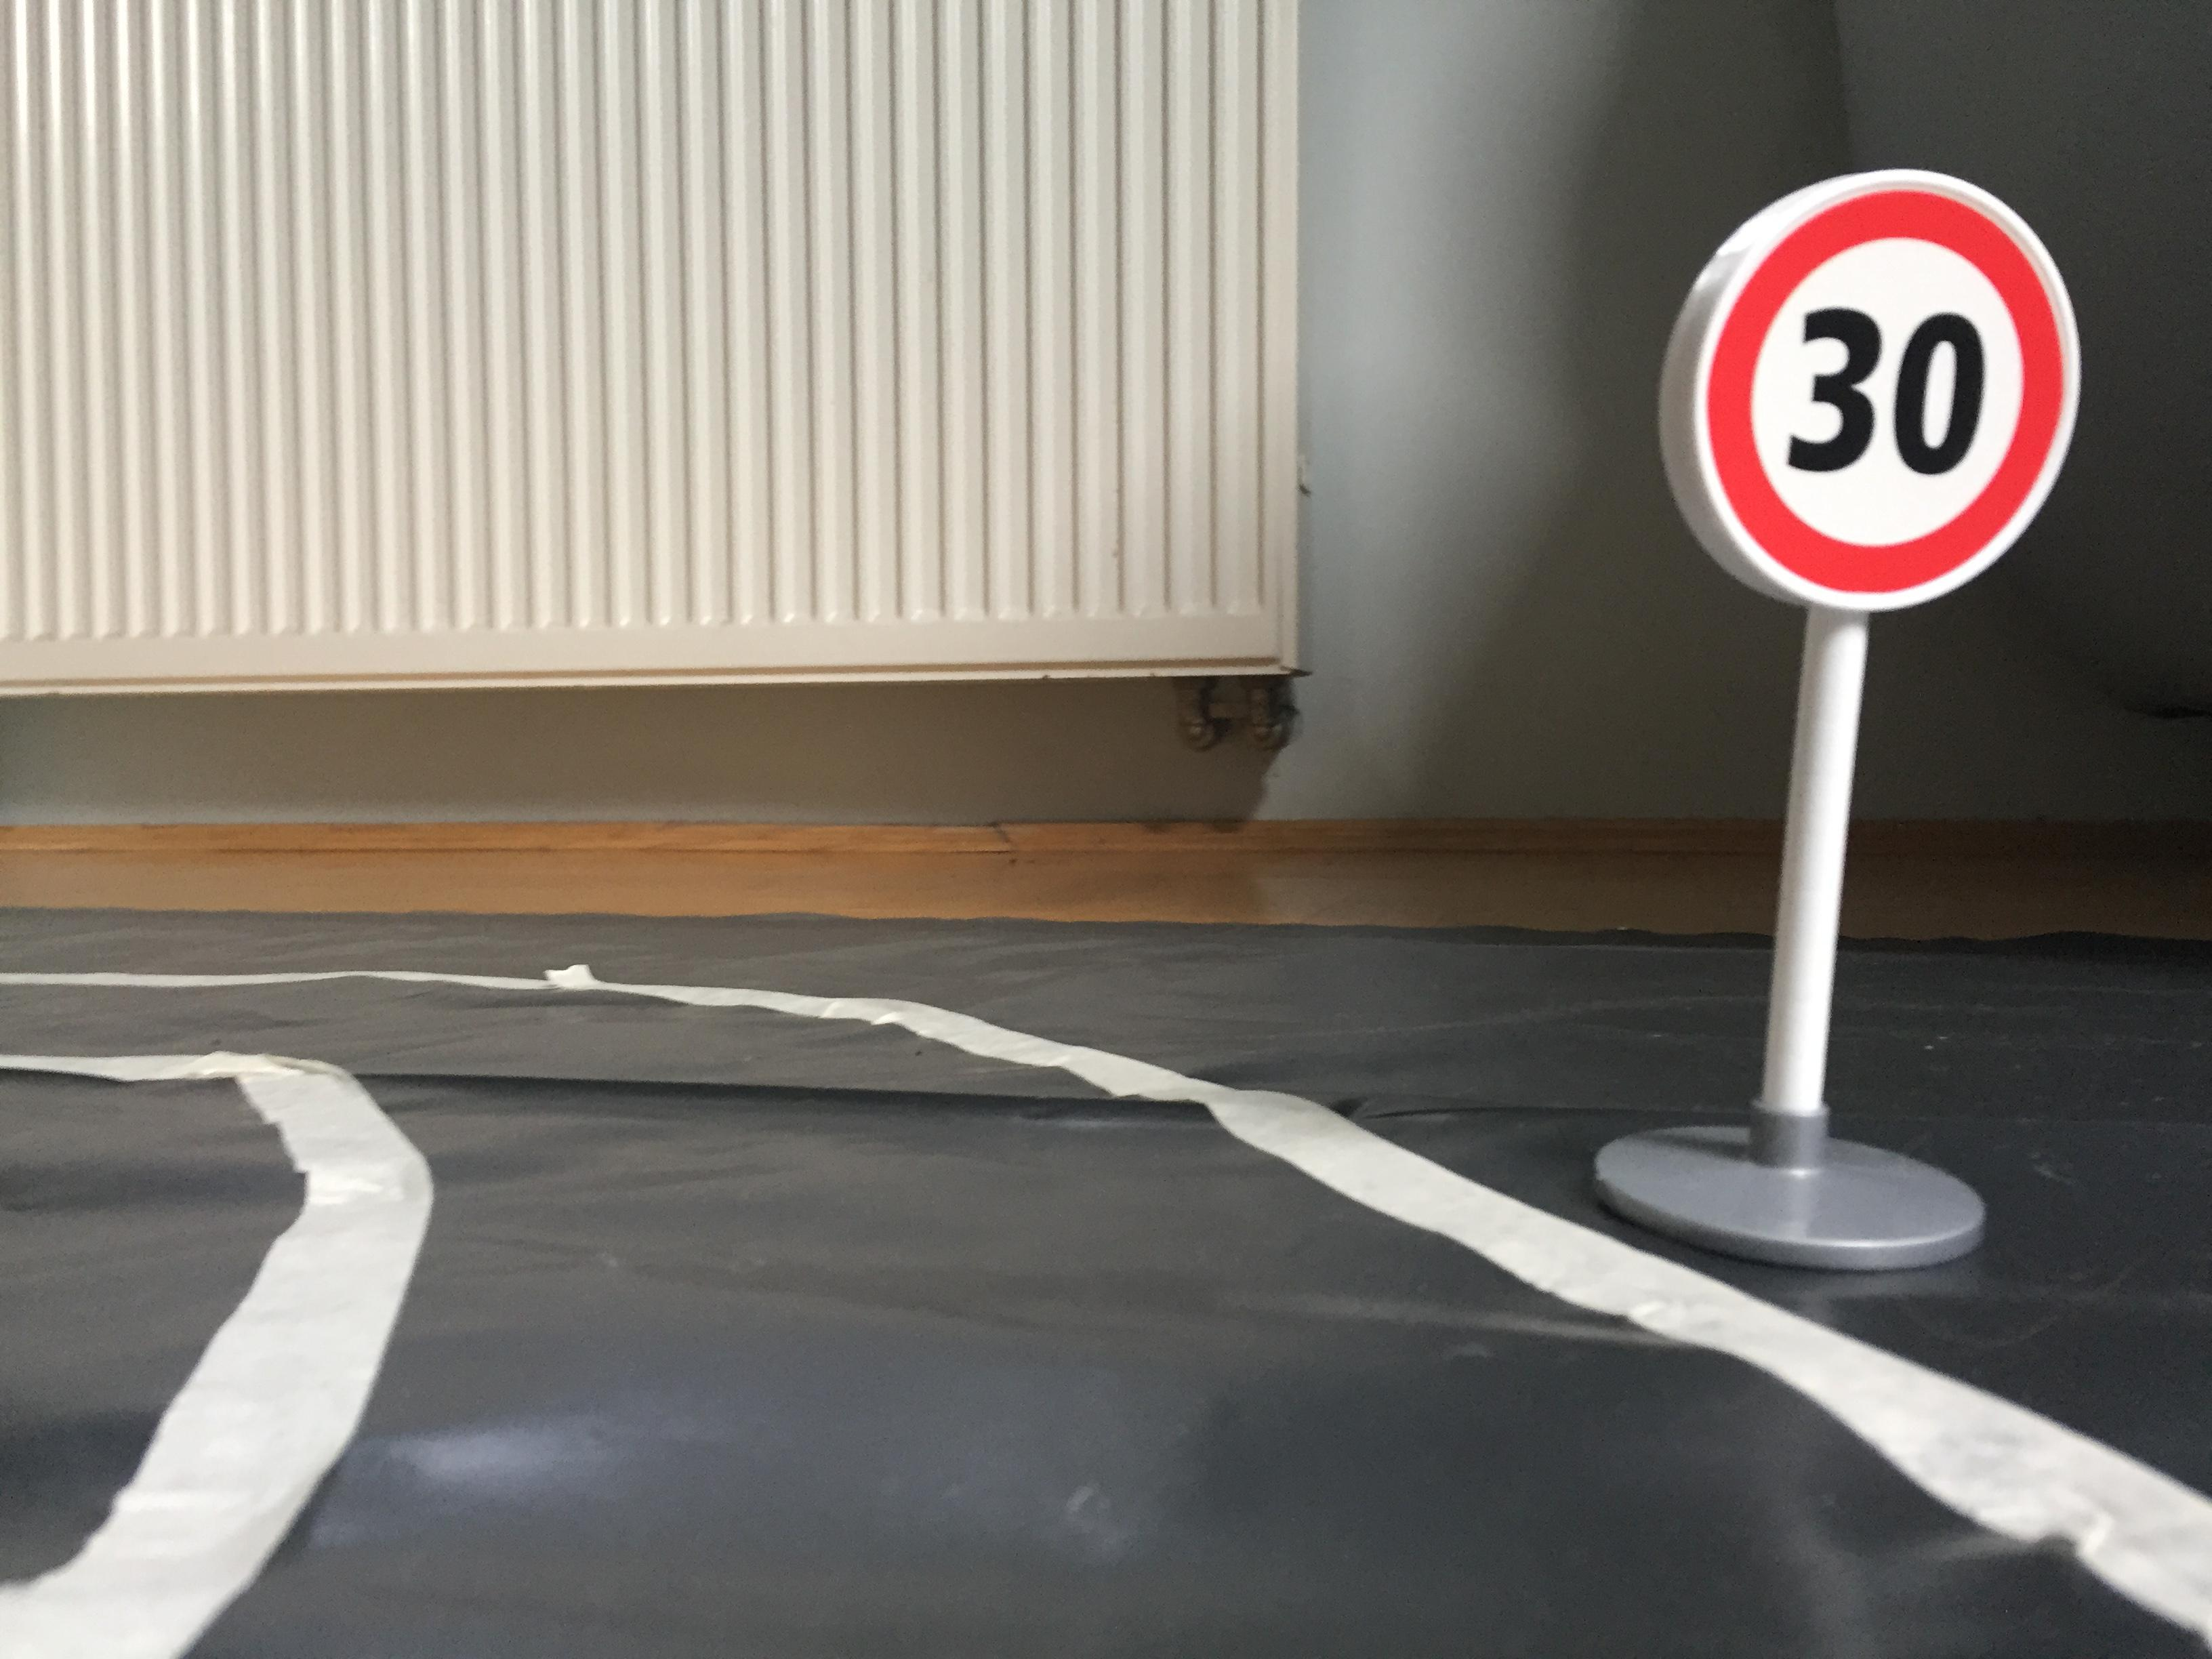speed: (1646, 159, 2101, 622)
